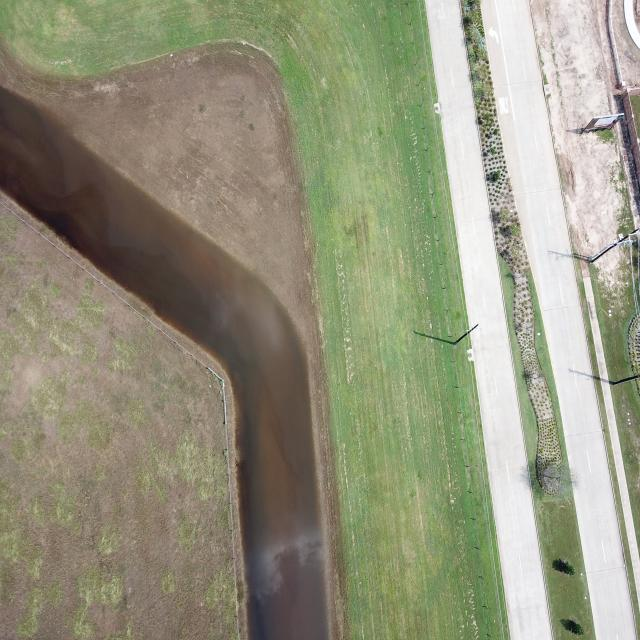fire: (0, 85, 328, 640)
